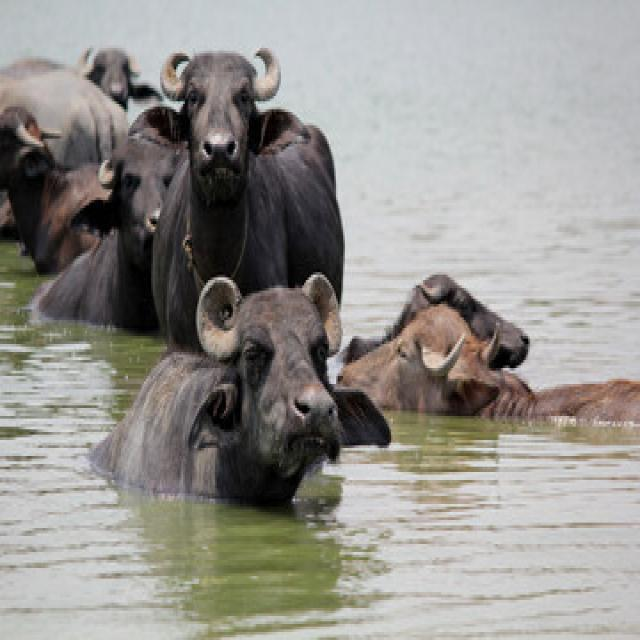Buffalo: (84, 272, 397, 507), (131, 47, 349, 285)
